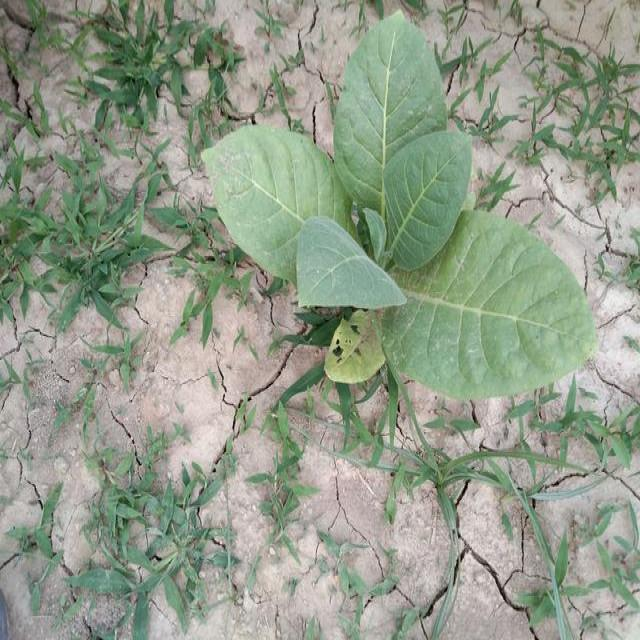crop: (195, 5, 601, 405)
